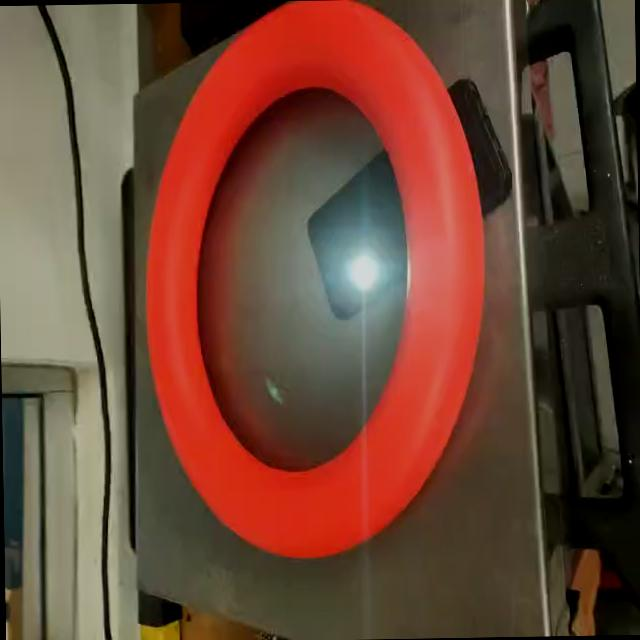note: (138, 5, 490, 557)
